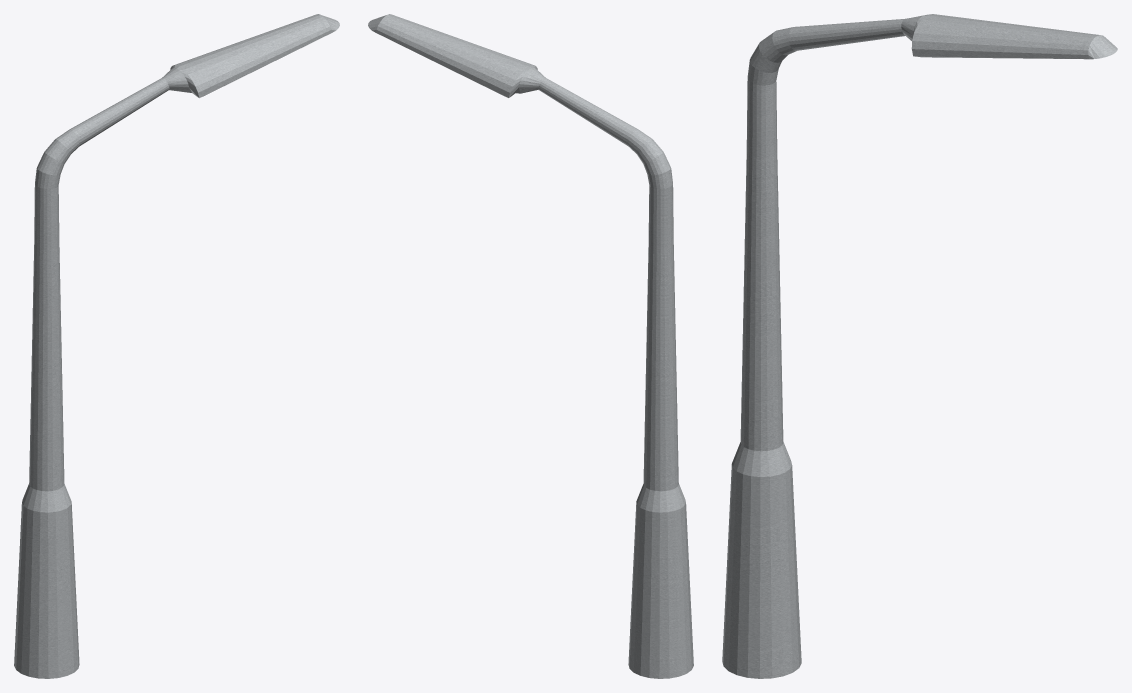
Rendered from Straßenlaterne.fbx.
3 renders of one model, left to right at view 1: azimuth 30°, elevation 25°; view 2: azimuth 150°, elevation 25°; view 3: azimuth 330°, elevation 25°, orthographic. The views are drawn at different scales.
Parts seen in each view (by area): view 1: Model; view 2: Model; view 3: Model.
Part boxes in pixels (x1,y1,x2,y2): Model: (14, 14, 339, 678); Model: (368, 14, 693, 678); Model: (722, 14, 1117, 678).
Bounding box in the file's own units: 5.12 × 8.93 × 0.9.
